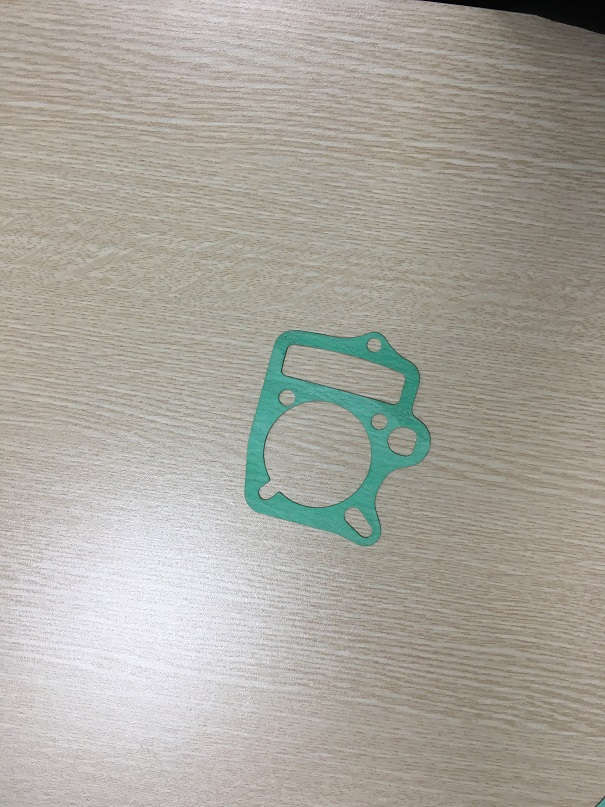type4: (224, 309, 441, 551)
